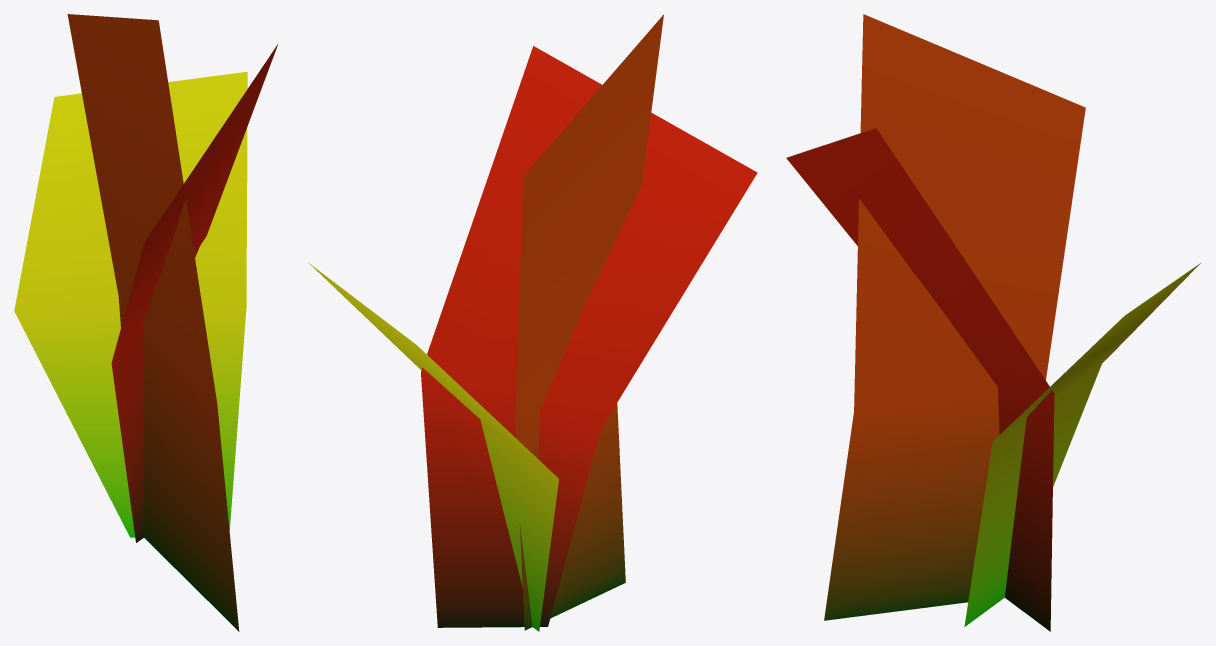
File: Var4_LOD3.fbx
The picture shows the model from 3 angles, left to right: view 1: azimuth 30°, elevation 25°; view 2: azimuth 150°, elevation 25°; view 3: azimuth 270°, elevation 25°; orthographic projection. The views are drawn at different scales.
Parts seen in each view (by area): view 1: _cfad_Var4_LOD3; view 2: _cfad_Var4_LOD3; view 3: _cfad_Var4_LOD3.
Part boxes in pixels (x1,y1,x2,y2): _cfad_Var4_LOD3: (14, 14, 277, 631); _cfad_Var4_LOD3: (308, 14, 757, 631); _cfad_Var4_LOD3: (786, 14, 1201, 631).
Bounding box in the file's own units: 14.99 × 31.06 × 20.22.
